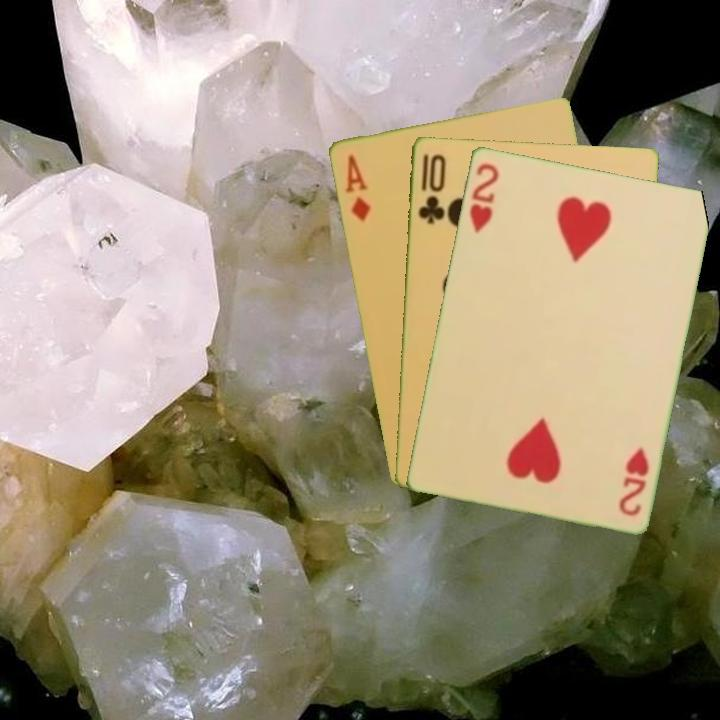10c: (414, 150, 448, 227)
2h: (614, 443, 652, 519), (465, 159, 501, 235)
Ad: (341, 150, 373, 224)
